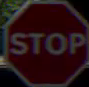Stop: (0, 7, 88, 74)
